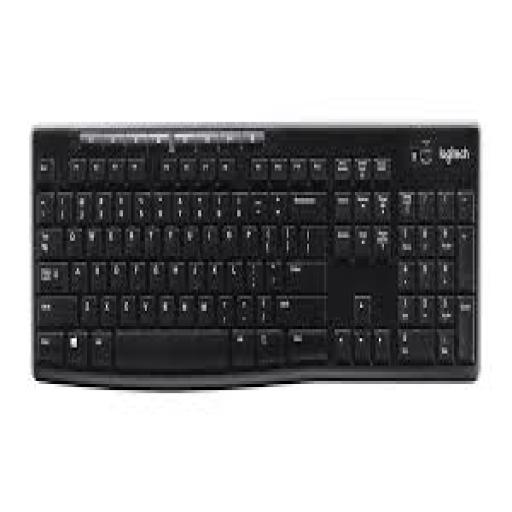KEYBOARD-2: (31, 125, 478, 387)
